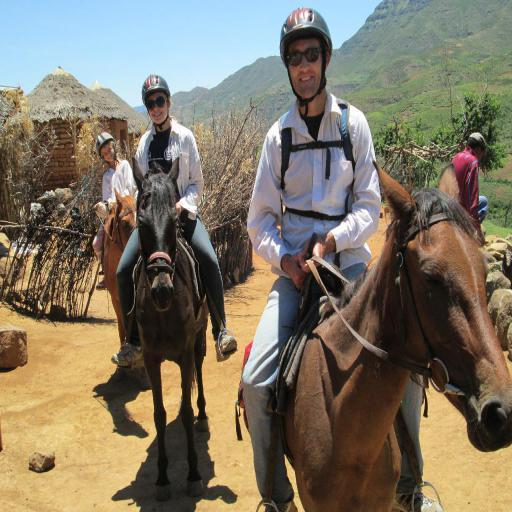horse: (280, 159, 512, 512), (129, 152, 211, 500), (102, 185, 148, 385)
